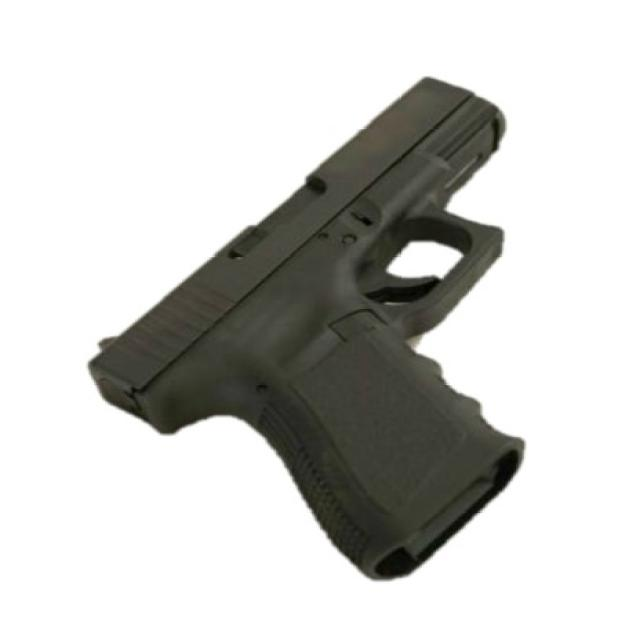pistol: (82, 67, 543, 585)
